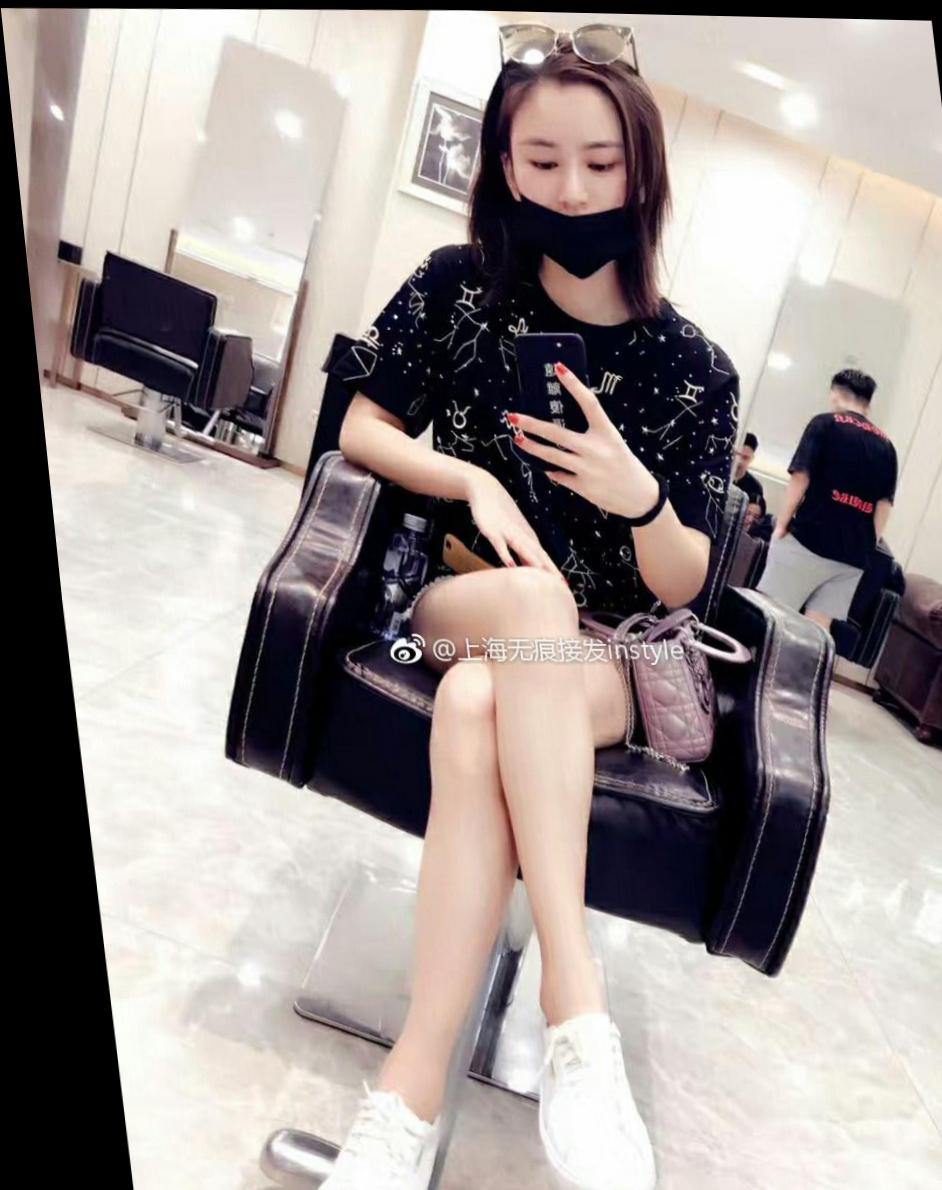WRONG: (501, 116, 640, 271)
